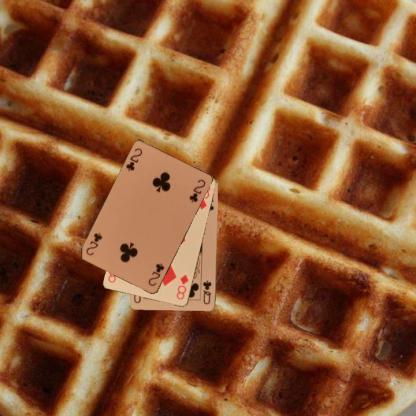2c: (124, 145, 144, 173), (146, 261, 166, 287)
8d: (174, 272, 190, 301)
Qc: (200, 278, 212, 306)
